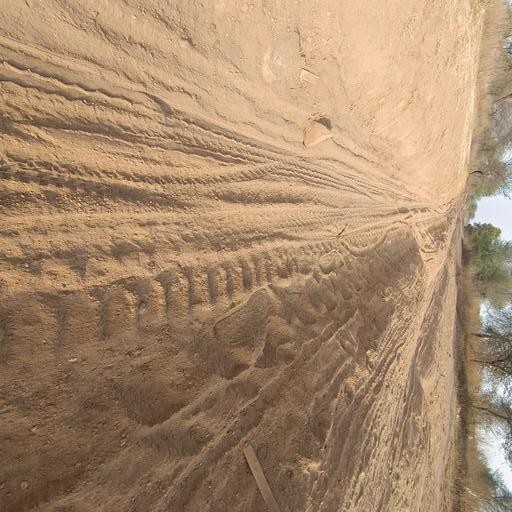vehicle_track: (0, 0, 443, 430)
